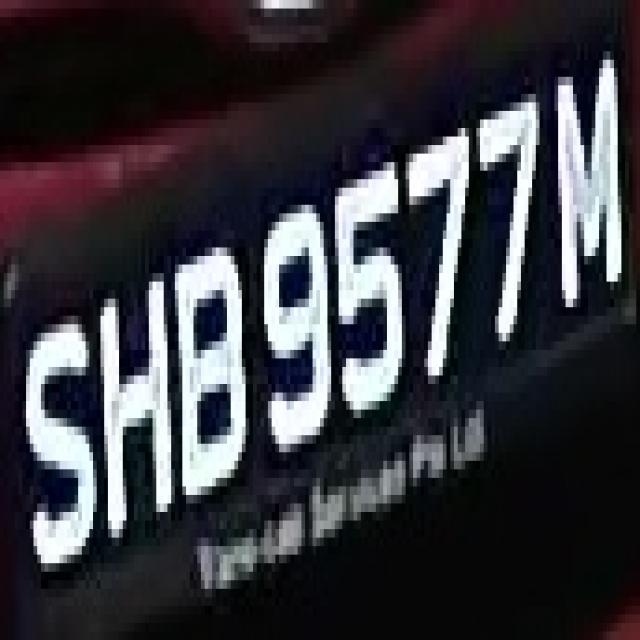5: (320, 137, 413, 435)
7: (387, 111, 484, 418), (461, 68, 547, 384)
9: (250, 188, 342, 469)
B: (168, 205, 260, 512)
H: (86, 239, 182, 546)
M: (547, 51, 629, 324)
S: (11, 282, 101, 563)
